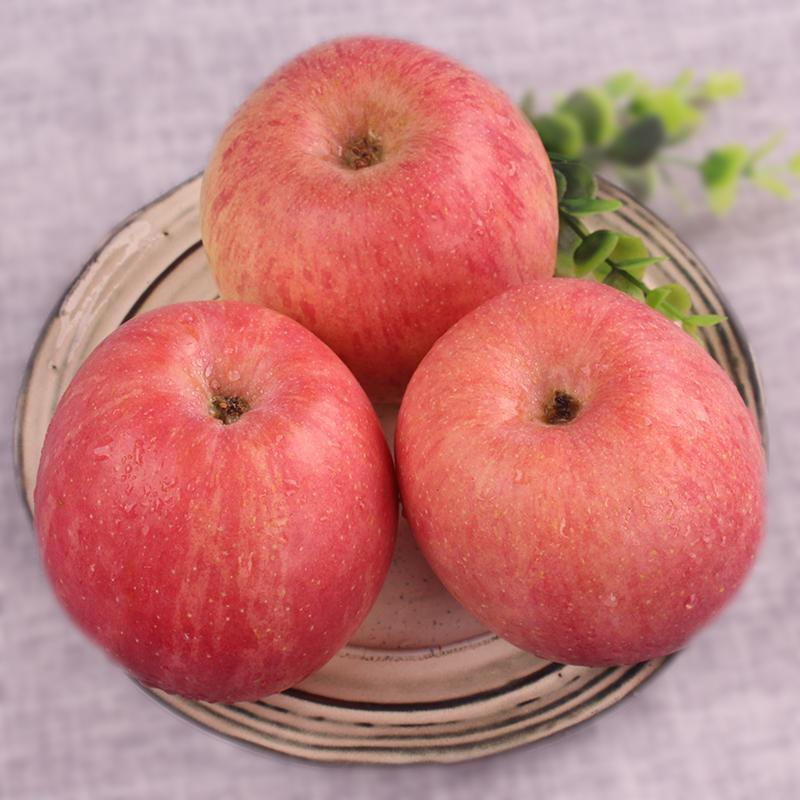apple: (36, 315, 397, 717), (401, 283, 769, 674), (192, 32, 557, 395)
